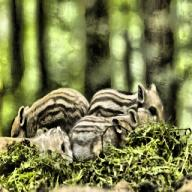boar: (10, 87, 89, 138), (68, 108, 139, 161), (87, 83, 164, 127), (0, 125, 73, 163)
